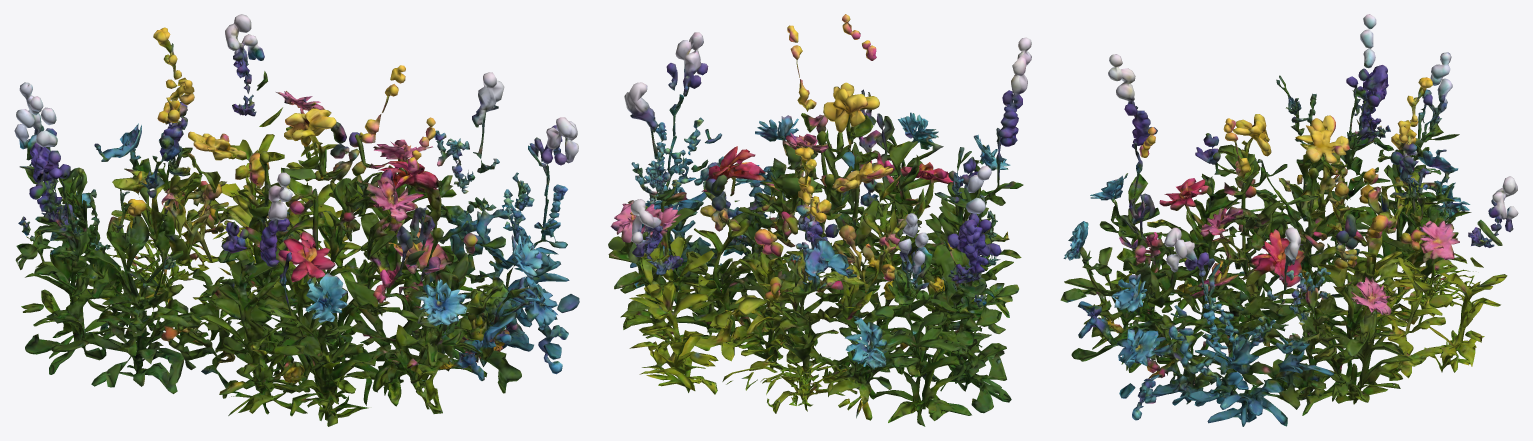
File: blossoms.glb
3 renders of one model, left to right at view 1: azimuth 30°, elevation 25°; view 2: azimuth 150°, elevation 25°; view 3: azimuth 270°, elevation 25°, orthographic. The views are drawn at different scales.
Bounding box in the file's own units: 1.88 × 1.19 × 1.85.
1 material, 1 textured.
